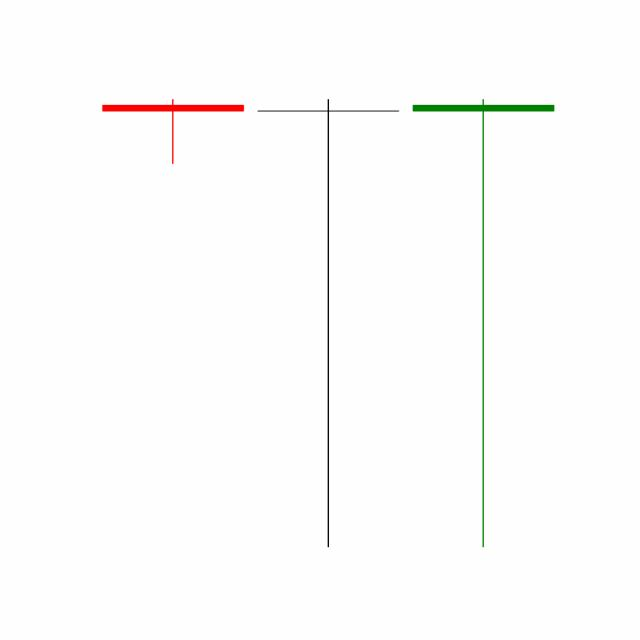Dragonfly Doji: (405, 94, 561, 552)
